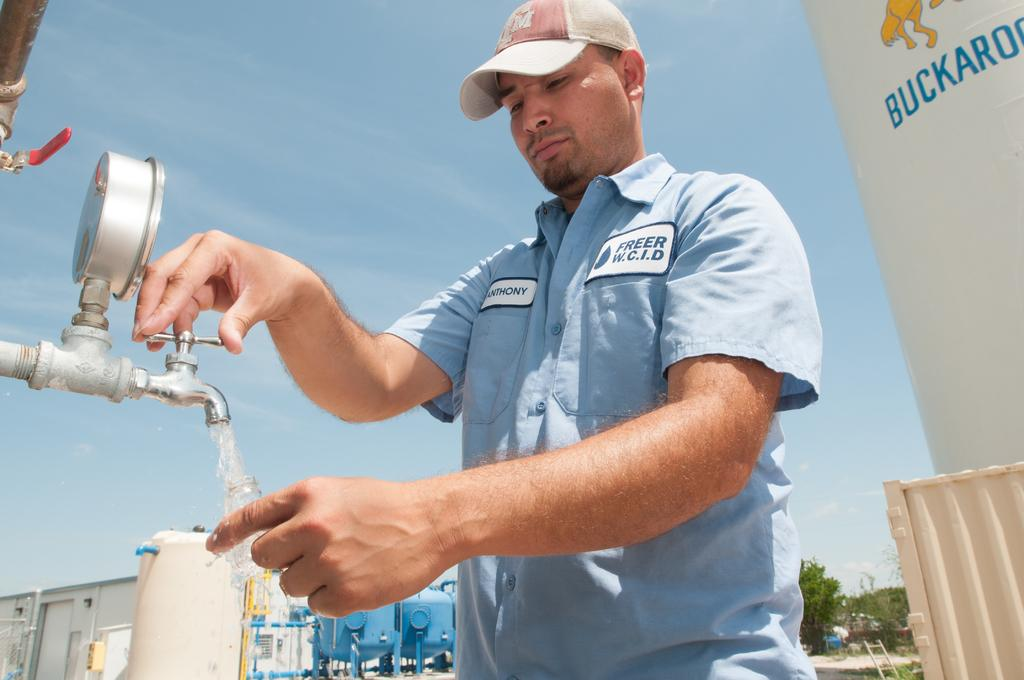Hat: (460, 0, 644, 124)
